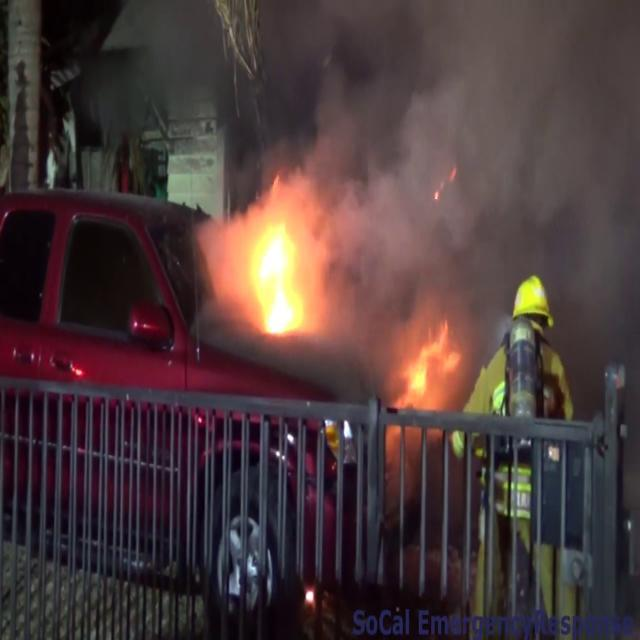Fire: (231, 176, 335, 340), (394, 310, 464, 416)
Smoke: (208, 0, 640, 299)
